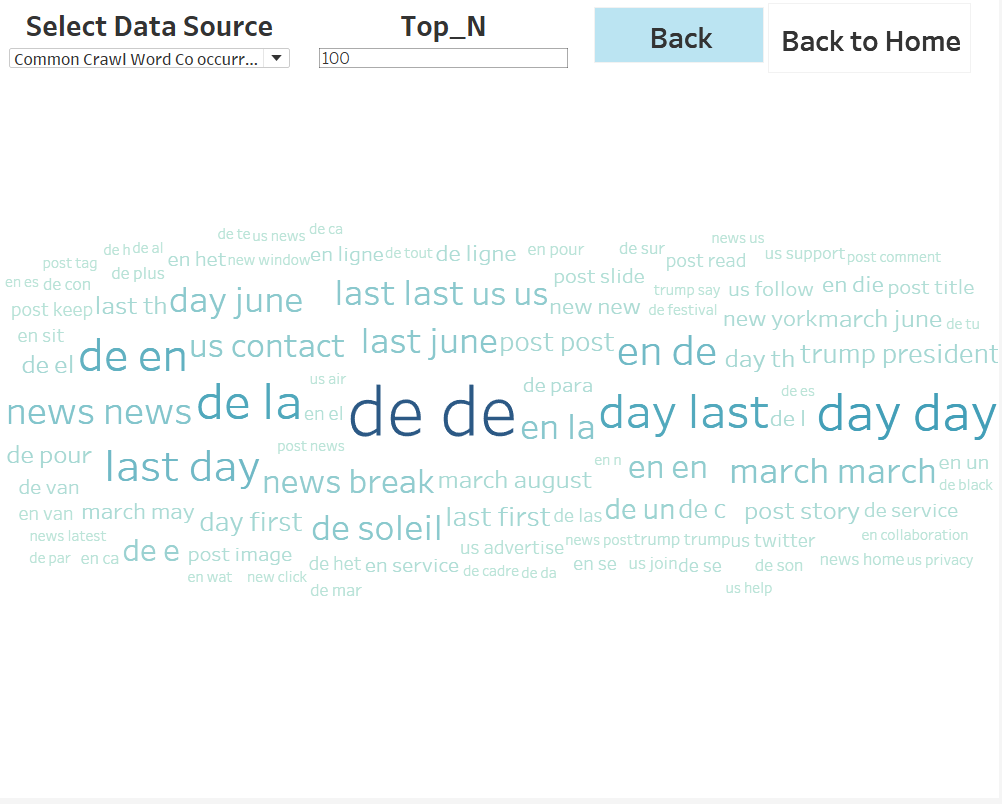

This screenshot's page, from the dashboard's own definition file:
{"tool":"tableau","page":{"name":"small_wcooc_dash","canvas":[1000,800],"ordinal":5},"visuals":[{"type":"worksheet","title":"Back","mark":"Automatic","box":[769,5,203,70]},{"type":"parameter","param":"[Parameters].[Select a View (copy)]","box":[7,8,287,105]},{"type":"parameter","param":"[Parameters].[Parameter 3]","box":[317,8,255,91]},{"type":"worksheet","title":"Back_1","mark":"Automatic","box":[595,9,170,56]},{"type":"worksheet","title":"small_cc_co","mark":"Text","box":[4,103,995,696]},{"type":"worksheet","title":"small_twitter","mark":"Text","box":[5,103,978,700]},{"type":"worksheet","title":"small_twitter_co","mark":"Text","box":[22,106,971,687]}]}

Visuals, with their boxes in screenshot pixels (x1, y1, x2, y2), scaled from the page's 1000x800 canvas onto the 1002x804 screenshot:
"Back" worksheet: 771, 5, 974, 75
parameter: 7, 8, 295, 114
parameter: 318, 8, 573, 99
"Back_1" worksheet: 596, 9, 767, 65
"small_cc_co" worksheet (Text marks): 4, 104, 1001, 803
"small_twitter" worksheet (Text marks): 5, 104, 985, 803
"small_twitter_co" worksheet (Text marks): 22, 107, 995, 797
